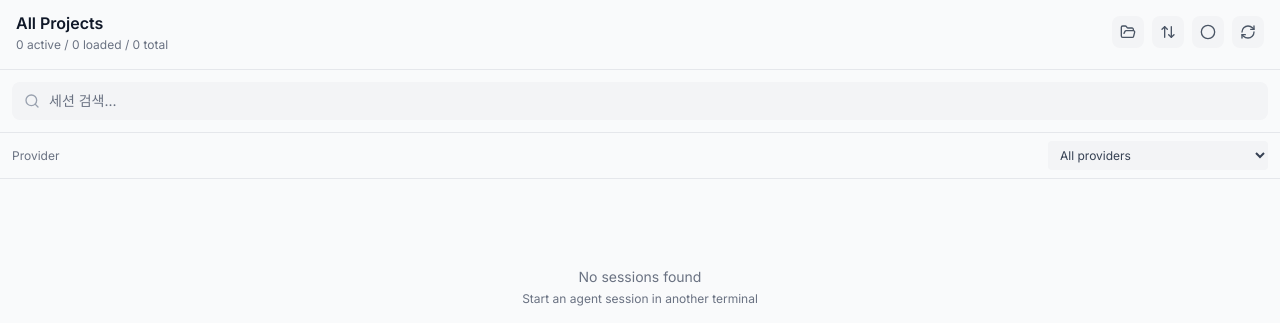
Test case: SessionList › project filter dropdown › opens project menu when button is clicked
What coordinates should you click on to do the following:
click the button titled "프로젝트 필터"
I would click on:
 (1128, 32)
Its box is x1=1112 y1=16 x2=1144 y2=48.
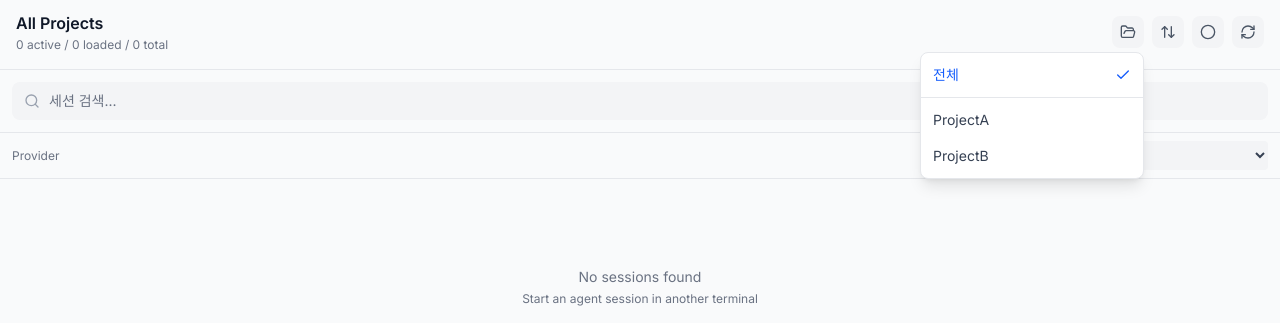
Expected: the text "전체" is shown, x1=933 y1=65 x2=959 y2=85
Expected: the text "ProjectA" is shown, x1=933 y1=110 x2=989 y2=130
Expected: the text "ProjectB" is shown, x1=933 y1=146 x2=989 y2=166
